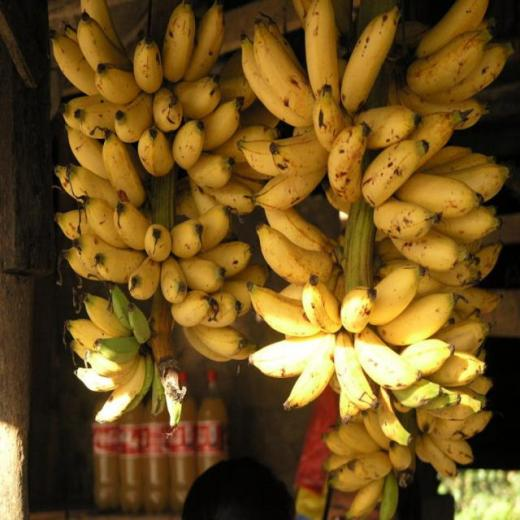Banana: (47, 0, 516, 519)
